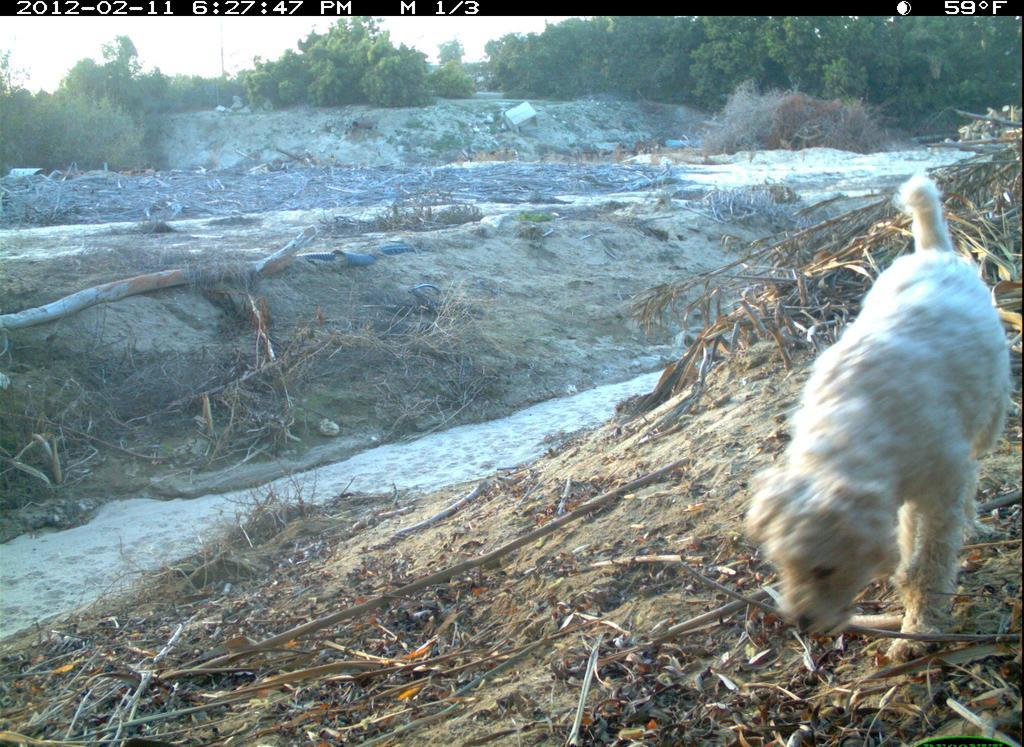dog: (733, 164, 1016, 689)
